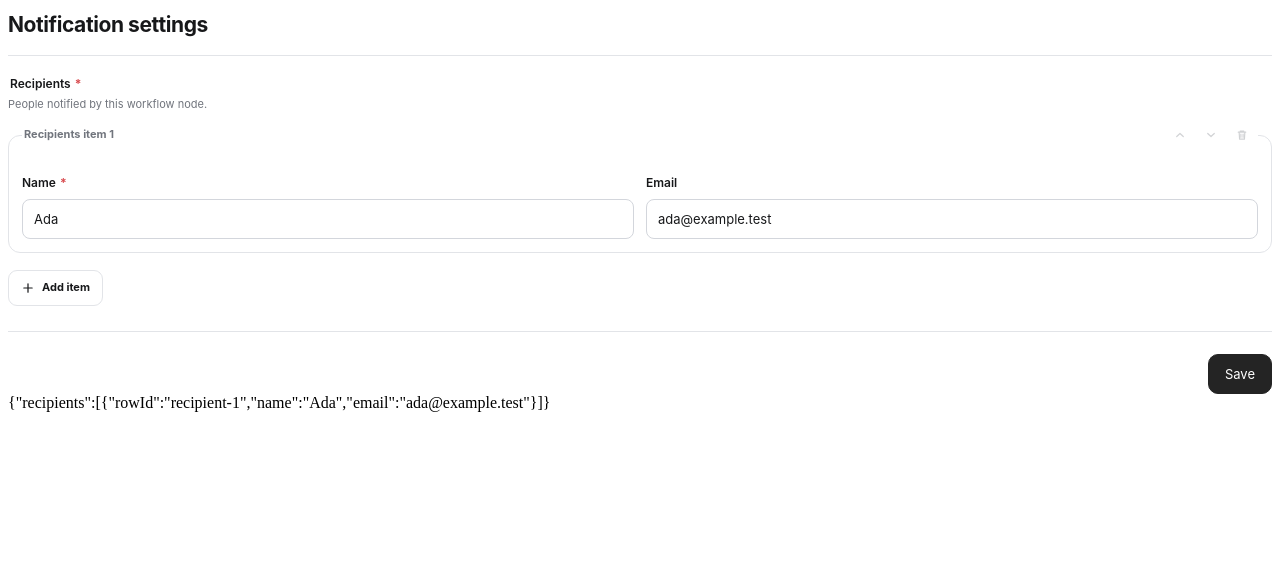
React FormRenderer › edits, adds, reorders and removes controlled object repeater rows
Step 1. Replace the text in the field labelled "Name" with "Ada L." → {"x": 328, "y": 219}, box [22, 199, 634, 239]
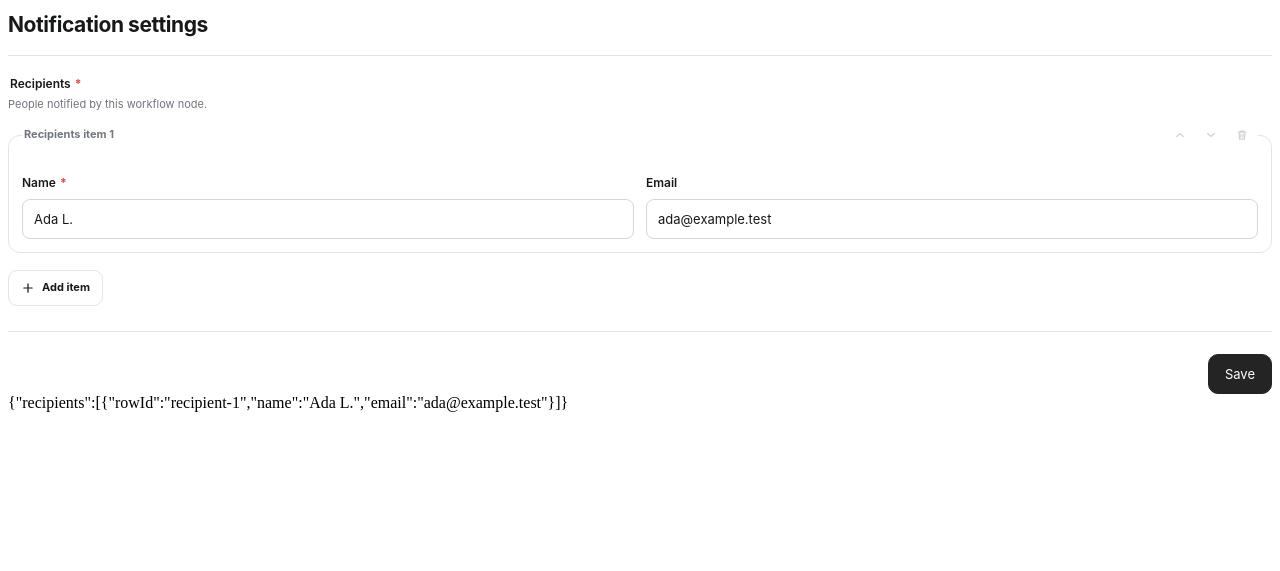
Expected: the button named "Remove Recipients item 1" is disabled, [1227, 121, 1256, 150]
Now the text with test id "object-repeater-value" shows "\"name\":\"Ada L.\"", box [8, 394, 568, 411]
Step 2. Click the button "Add item" → {"x": 55, "y": 288}, box [8, 270, 103, 306]
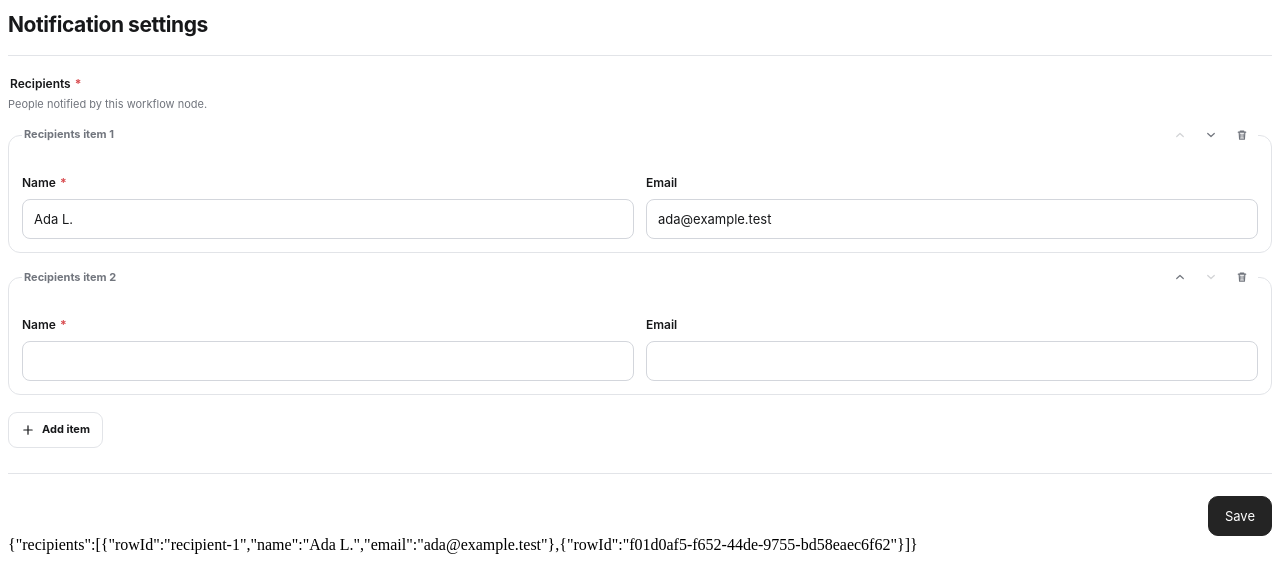
Step 3. Type "Grace" into the field labelled "Name" below "Recipients item 2" → {"x": 328, "y": 361}, box [22, 341, 634, 381]
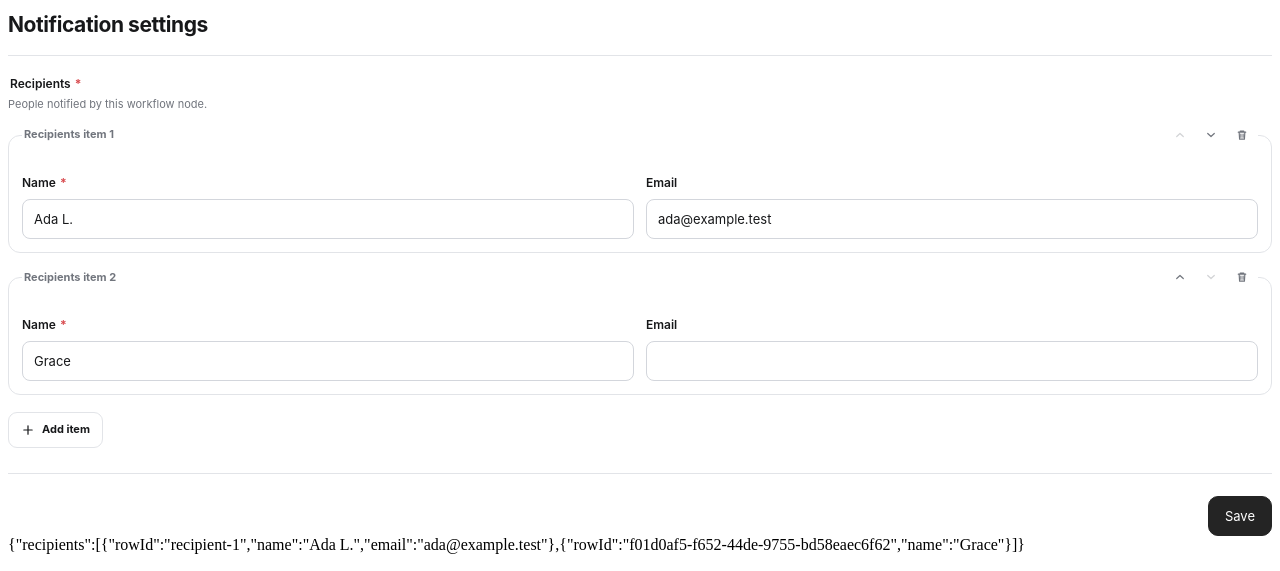
Step 4. Click the button named "Move Recipients item 2 up" → {"x": 1180, "y": 278}, box [1165, 263, 1194, 292]
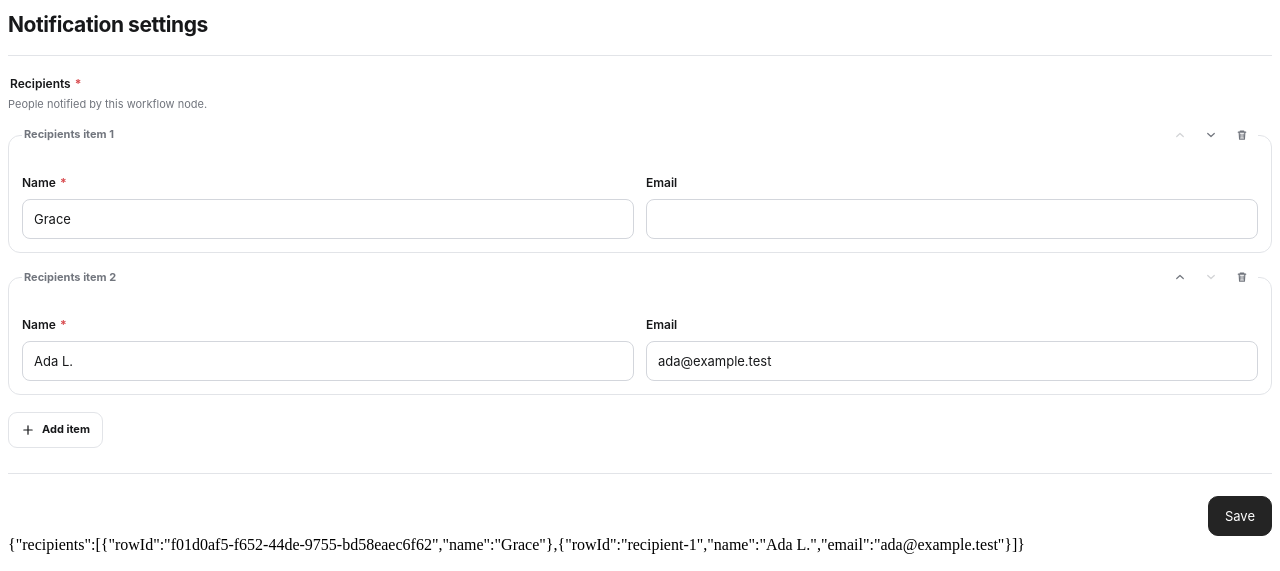
Step 5. Click the button named "Remove Recipients item 1" → {"x": 1242, "y": 135}, box [1227, 121, 1256, 150]
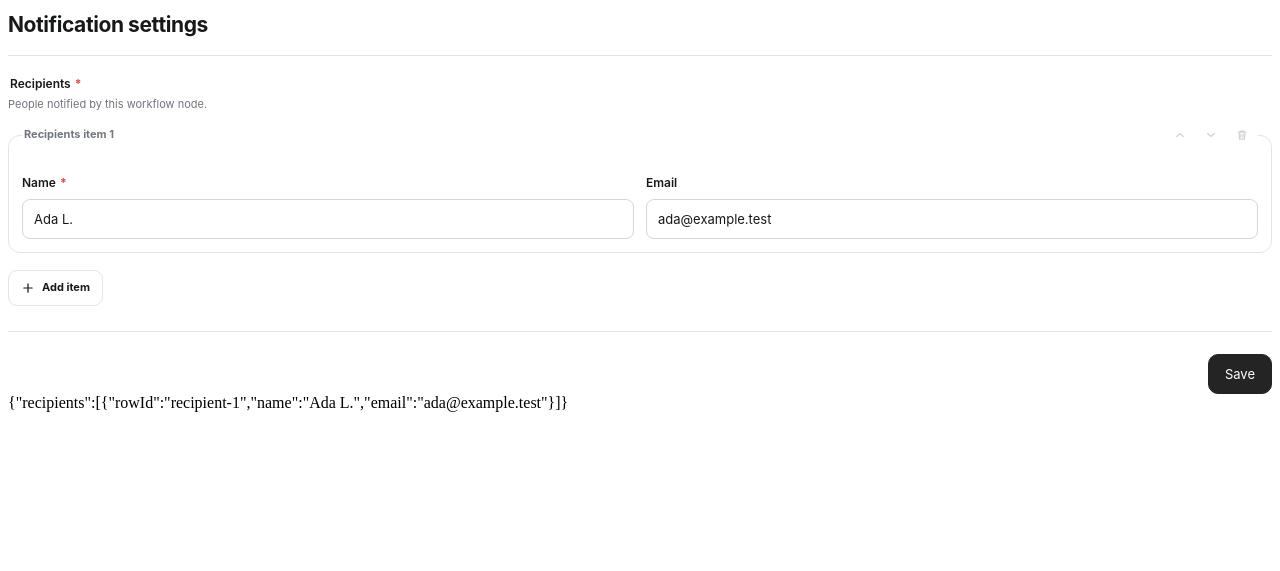
Now the text showing "Grace" is gone
